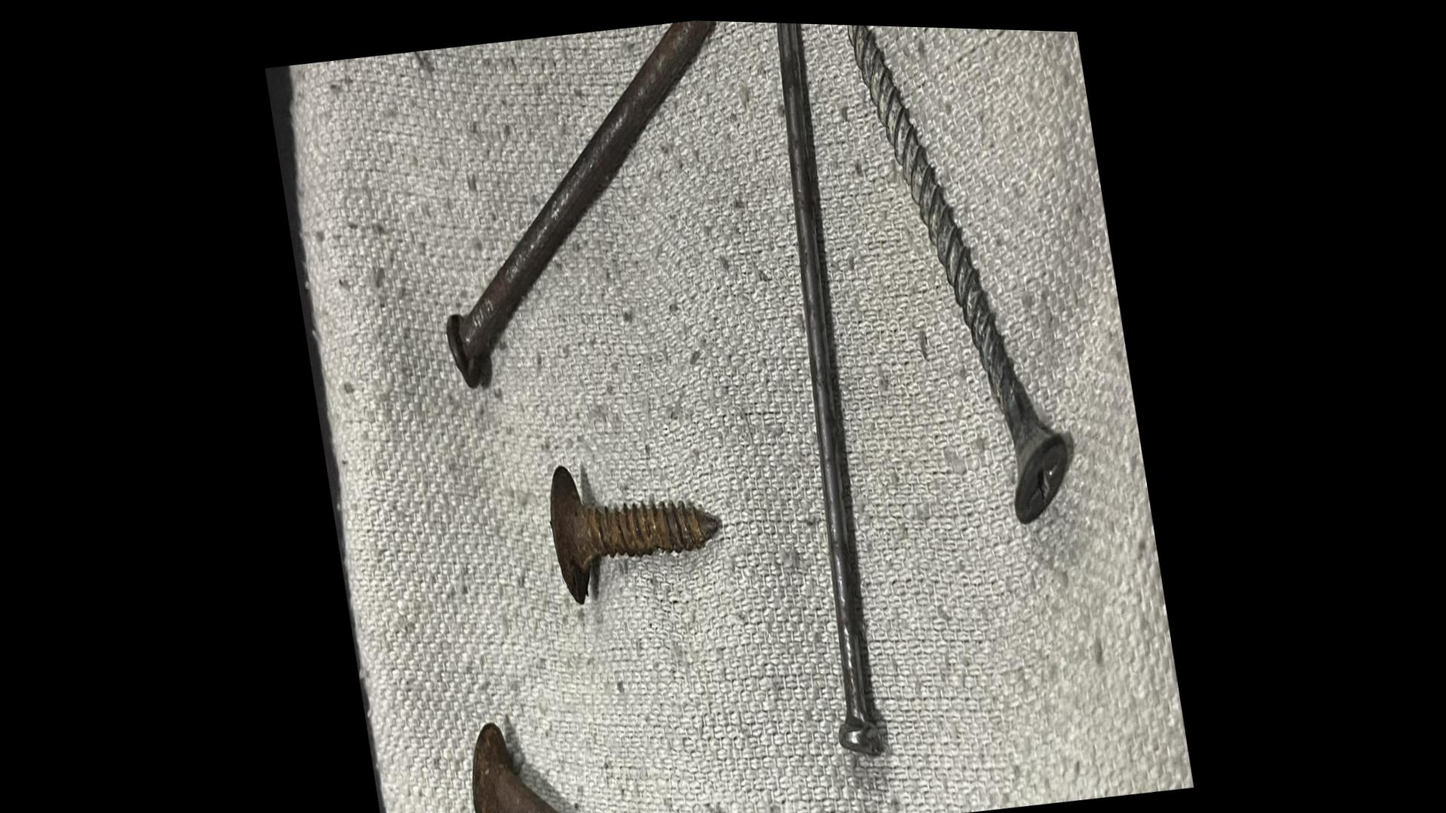nail: (710, 17, 930, 795), (383, 9, 776, 437)
screw: (832, 19, 1095, 643), (514, 397, 744, 657), (437, 650, 724, 813)
